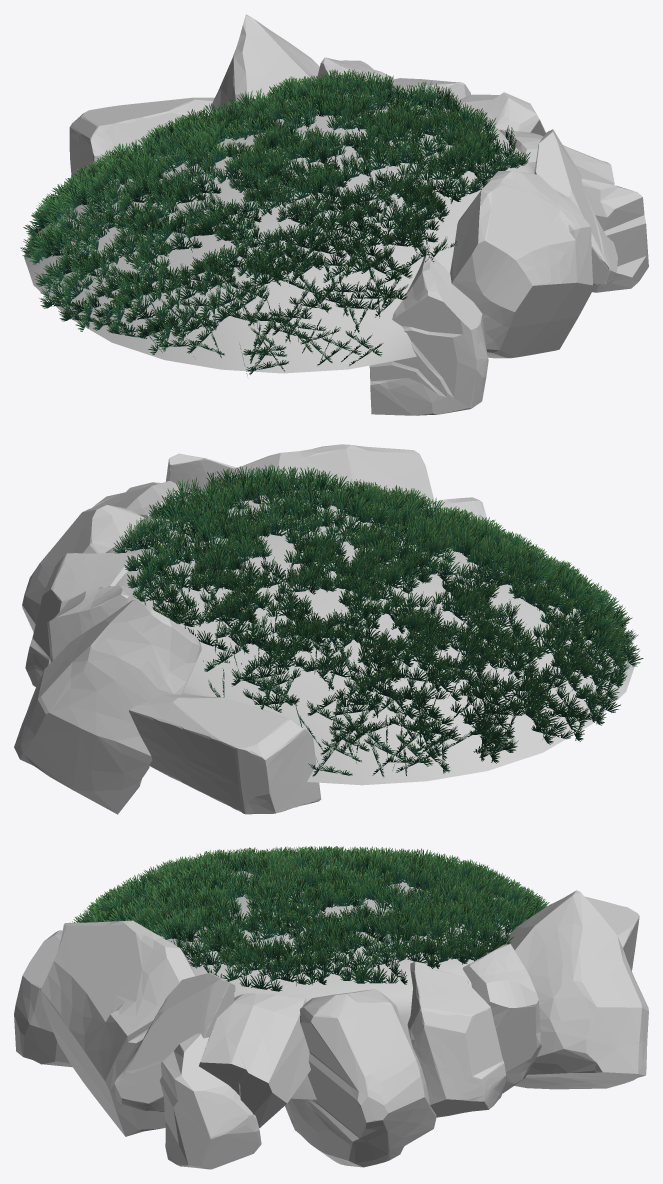
The model's file is sm_05x_hillCliff_1.fbx.
3 renders of one model, top to bottom at view 1: azimuth 30°, elevation 25°; view 2: azimuth 150°, elevation 25°; view 3: azimuth 270°, elevation 25°, orthographic. The views are drawn at different scales.
Visible parts, largest first — view 1: hillcliff05x1; view 2: hillcliff05x1; view 3: hillcliff05x1.
Boxes of the visible parts, x1,y1,x2,y2 form: hillcliff05x1: (20, 14, 648, 415); hillcliff05x1: (14, 444, 643, 814); hillcliff05x1: (14, 846, 648, 1169).
Bounding box in the file's own units: 2.83 × 1.03 × 2.82.
